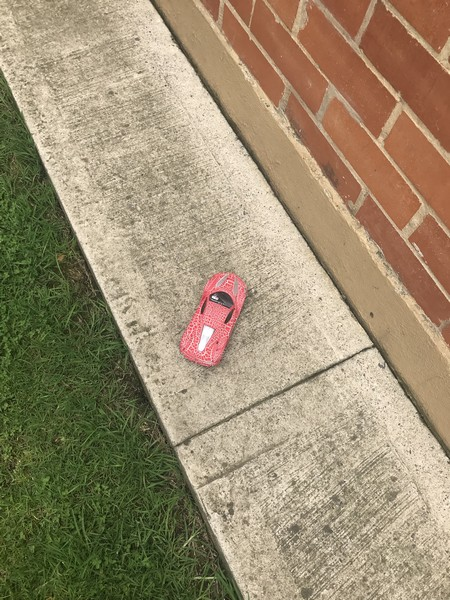RC: (179, 270, 248, 370)
